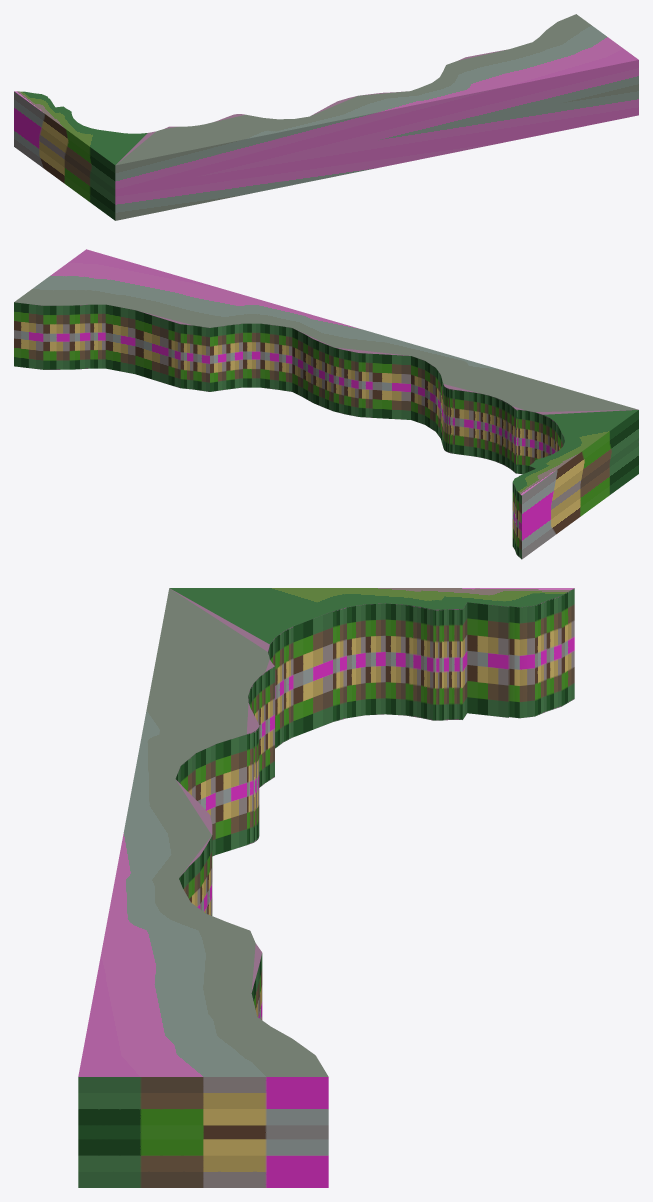
Rendered from OceanBarrier.fbx.
3 renders of one model, top to bottom at view 1: azimuth 30°, elevation 25°; view 2: azimuth 150°, elevation 25°; view 3: azimuth 270°, elevation 25°, orthographic. The views are drawn at different scales.
Visible parts, largest first — view 1: OceanBarrier; view 2: OceanBarrier; view 3: OceanBarrier.
Part boxes in pixels (x1,y1,x2,y2): OceanBarrier: (14, 14, 638, 220); OceanBarrier: (14, 249, 638, 559); OceanBarrier: (78, 588, 574, 1187).
Bounding box in the file's own units: 17316 × 1833 × 7432.
